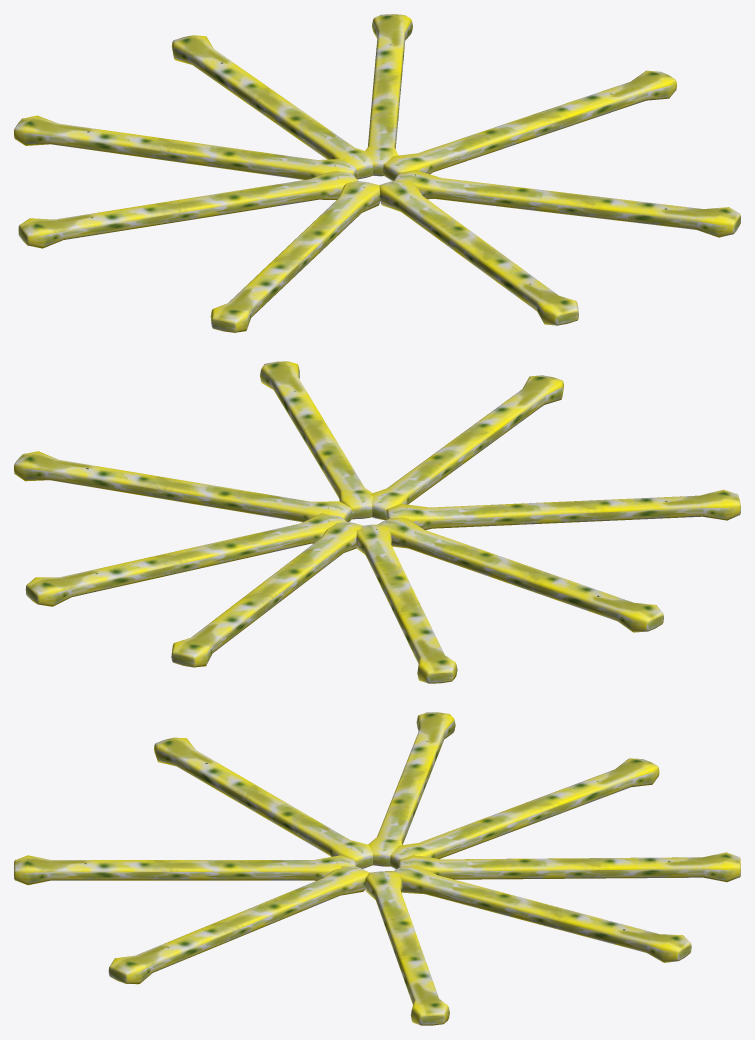
File: AsterionellaFormos_comb2.FBX
3 renders of one model, top to bottom at view 1: azimuth 30°, elevation 25°; view 2: azimuth 150°, elevation 25°; view 3: azimuth 270°, elevation 25°, orthographic. The views are drawn at different scales.
Visible parts, largest first — view 1: ChamferBox008, ChamferBox005, ChamferBox003, ChamferBox006, ChamferBox001, ChamferBox002, ChamferBox004, ChamferBox007; view 2: ChamferBox002, ChamferBox006, ChamferBox007, ChamferBox008, ChamferBox004, ChamferBox001, ChamferBox003, ChamferBox005; view 3: ChamferBox001, ChamferBox004, ChamferBox007, ChamferBox005, ChamferBox003, ChamferBox002, ChamferBox006, ChamferBox008.
Boxes of the visible parts, x1,y1,x2,y2 form: ChamferBox008: (18, 171, 357, 248); ChamferBox005: (394, 170, 740, 237); ChamferBox003: (14, 115, 356, 179); ChamferBox006: (383, 70, 676, 181); ChamferBox001: (379, 180, 578, 325); ChamferBox002: (210, 181, 380, 332); ChamferBox004: (171, 35, 372, 179); ChamferBox007: (365, 14, 412, 176); ChamferBox002: (386, 489, 740, 530); ChamferBox006: (14, 451, 352, 522); ChamferBox007: (25, 513, 348, 606); ChamferBox008: (376, 517, 663, 632); ChamferBox004: (171, 521, 362, 667); ChamferBox001: (366, 375, 563, 520); ChamferBox003: (356, 524, 457, 683); ChamferBox005: (260, 361, 373, 519); ChamferBox001: (14, 855, 355, 885); ChamferBox004: (398, 852, 740, 882); ChamferBox007: (394, 866, 691, 962); ChamferBox005: (108, 866, 369, 984); ChamferBox003: (390, 758, 659, 869); ChamferBox002: (154, 737, 372, 868); ChamferBox006: (364, 871, 449, 1025); ChamferBox008: (368, 712, 455, 866).
Bounding box in the file's own units: 221 × 6.42 × 224.
Materials: 1 (1 with a texture image).
